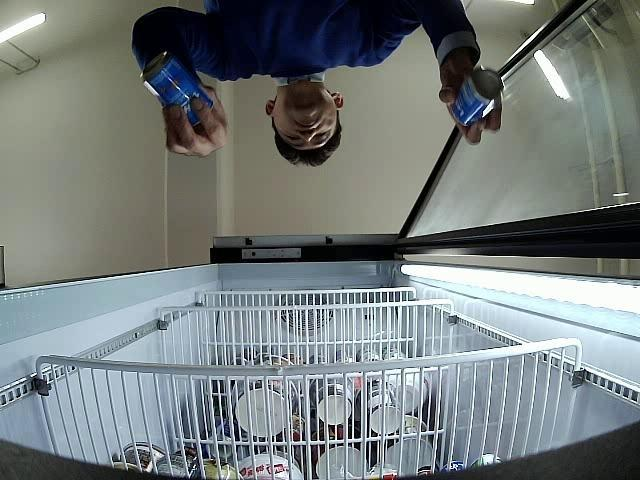15_letsbe: (140, 50, 212, 130), (450, 66, 506, 126)
